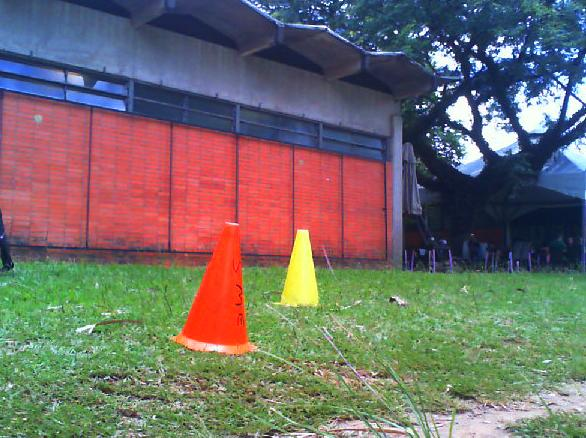0 cone: (165, 222, 256, 354), (272, 229, 320, 307)
